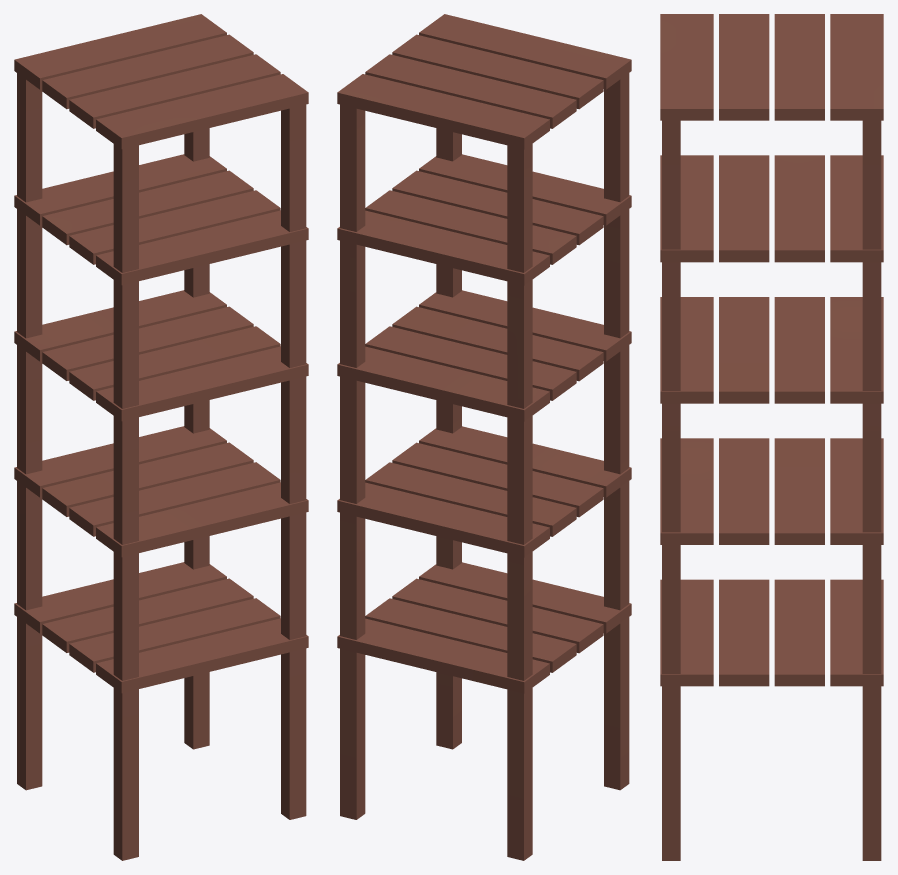
The model's file is shelf_039.glb.
The picture shows the model from 3 angles, left to right: view 1: azimuth 30°, elevation 25°; view 2: azimuth 150°, elevation 25°; view 3: azimuth 270°, elevation 25°; orthographic projection. The views are drawn at different scales.
Visible parts, largest first — view 1: shelf_039; view 2: shelf_039; view 3: shelf_039.
Part boxes in pixels (x1,y1,x2,y2): shelf_039: (14, 14, 308, 860); shelf_039: (337, 14, 631, 860); shelf_039: (660, 14, 883, 860).
Bounding box in the file's own units: 0.3789 × 1.4 × 0.3764.
Materials: 1 (1 with a texture image).
